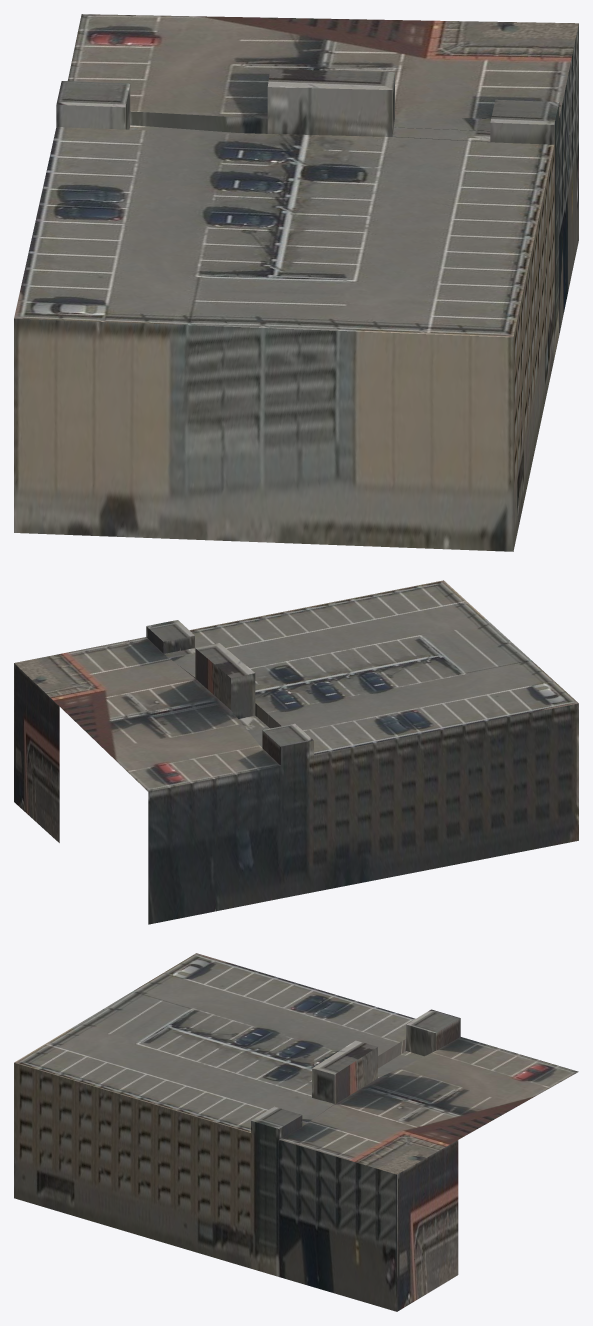
3 renders of one model, top to bottom at view 1: azimuth 30°, elevation 25°; view 2: azimuth 150°, elevation 25°; view 3: azimuth 270°, elevation 25°, orthographic. The views are drawn at different scales.
Visible parts, largest first — view 1: Z_UP; view 2: Z_UP; view 3: Z_UP.
Part boxes in pixels (x1,y1,x2,y2): Z_UP: [14, 14, 578, 551]; Z_UP: [14, 580, 578, 924]; Z_UP: [14, 953, 578, 1311].
Bounding box in the file's own units: 52.33 × 18.05 × 55.95.
6 materials, 5 textured.
